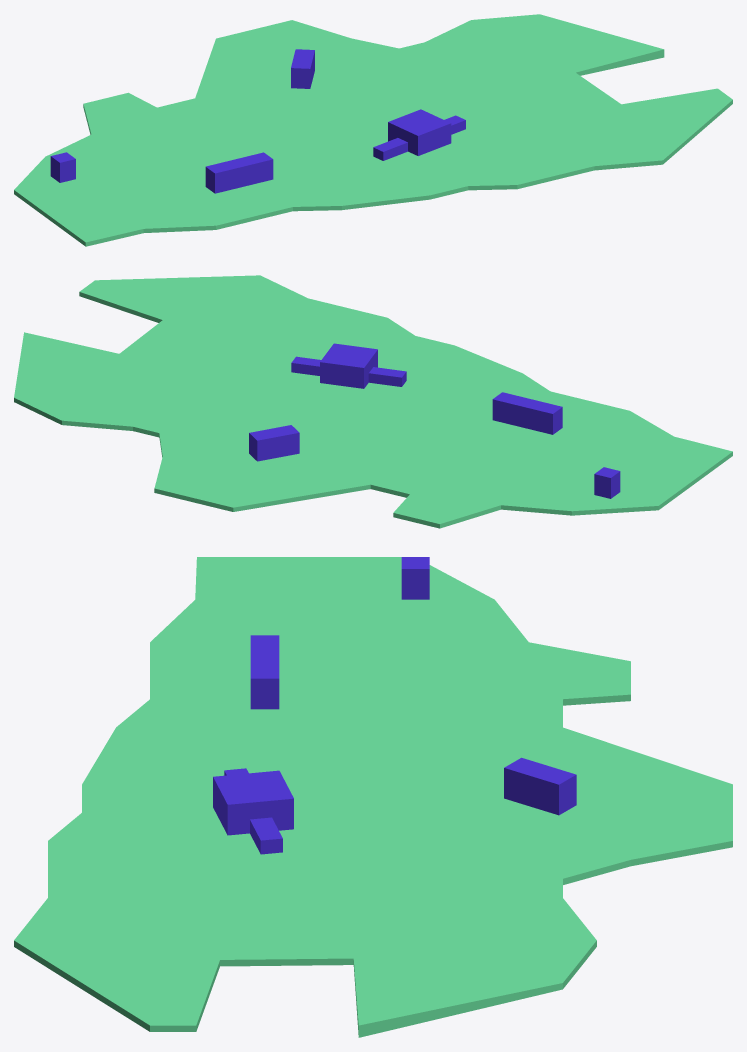
The model's file is minimizedModel.gltf.
The picture shows the model from 3 angles, top to bottom: view 1: azimuth 30°, elevation 25°; view 2: azimuth 150°, elevation 25°; view 3: azimuth 270°, elevation 25°; orthographic projection. The views are drawn at different scales.
Parts seen in each view (by area): view 1: BaseLand, Building2, Building1; view 2: BaseLand, Building2, Building1; view 3: BaseLand, Building2, Building1.
Boxes of the visible parts, left/top/right/bottom form: BaseLand: left=14, top=14, right=732, bottom=246; Building2: left=50, top=49, right=314, bottom=193; Building1: left=373, top=109, right=465, bottom=160; BaseLand: left=14, top=275, right=732, bottom=528; Building2: left=249, top=392, right=620, bottom=498; Building1: left=291, top=343, right=406, bottom=388; BaseLand: left=14, top=557, right=732, bottom=1037; Building2: left=250, top=557, right=576, bottom=815; Building1: left=213, top=768, right=293, bottom=854.
Bounding box in the file's own units: 32.58 × 1.4 × 21.13.
